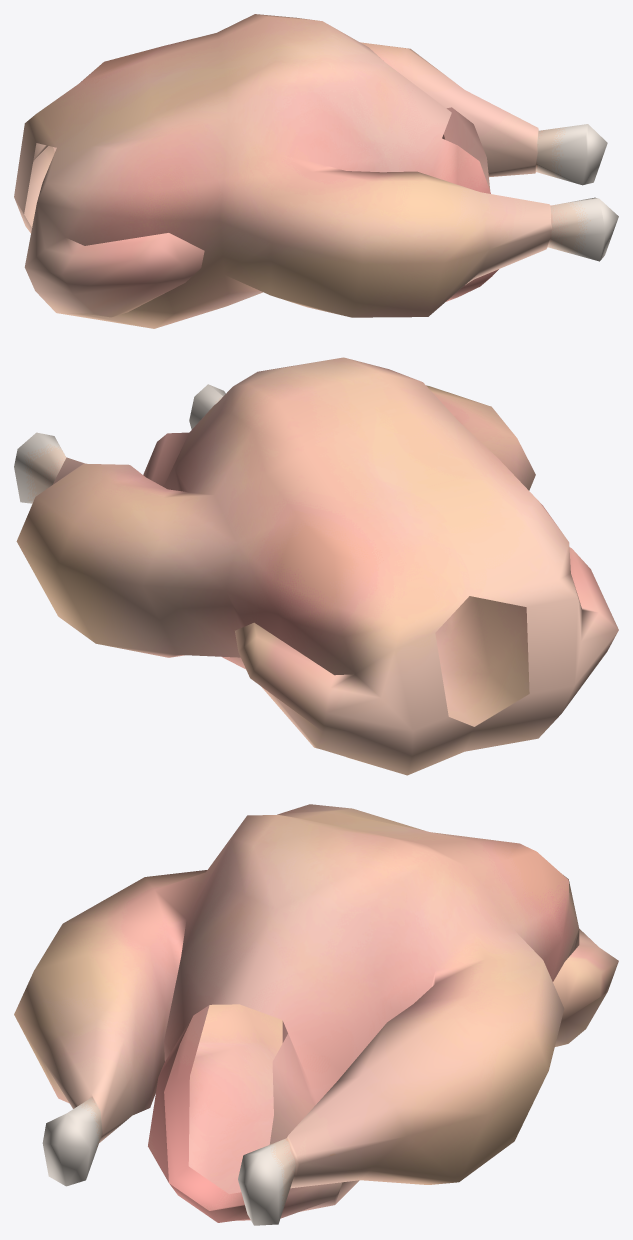
File: pouletCru_FBX.fbx
3 renders of one model, top to bottom at view 1: azimuth 30°, elevation 25°; view 2: azimuth 150°, elevation 25°; view 3: azimuth 270°, elevation 25°, orthographic. The views are drawn at different scales.
Visible parts, largest first — view 1: Poulet_Cru1; view 2: Poulet_Cru1; view 3: Poulet_Cru1.
Boxes of the visible parts, <box> form: Poulet_Cru1: <box>14,14,618,328</box>; Poulet_Cru1: <box>14,357,618,775</box>; Poulet_Cru1: <box>14,804,618,1225</box>.
Size of the model in its own units: 1.57 by 0.7348 by 1.28.
1 material, 1 textured.
